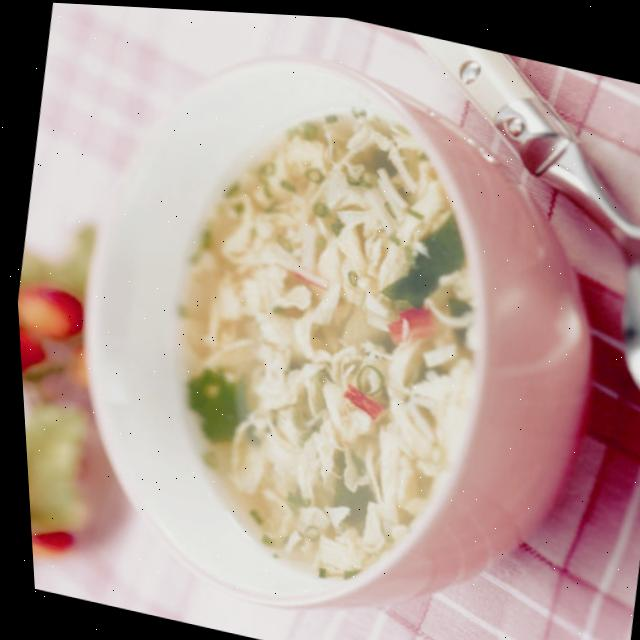汤锅炖物: (14, 17, 638, 640)
